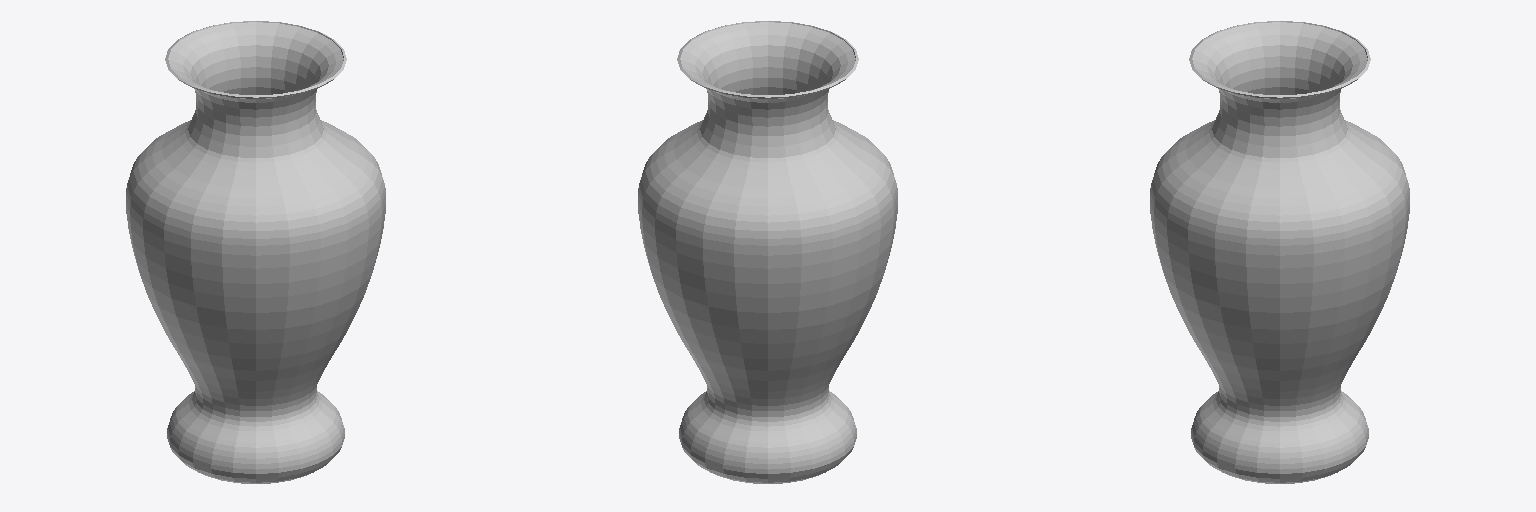
Rendered from vase.obj.
3 views of the same model, side by side, from view 1: azimuth 30°, elevation 25°; view 2: azimuth 150°, elevation 25°; view 3: azimuth 270°, elevation 25° (orthographic).
Visible parts, largest first — view 1: Object_4; view 2: Object_4; view 3: Object_4.
Boxes of the visible parts, box(x1,y1,x2,y2) form: Object_4: box(126, 21, 385, 483); Object_4: box(638, 21, 897, 483); Object_4: box(1150, 21, 1409, 483).
Bounding box in the file's own units: 0.7428 × 1.24 × 0.7428.